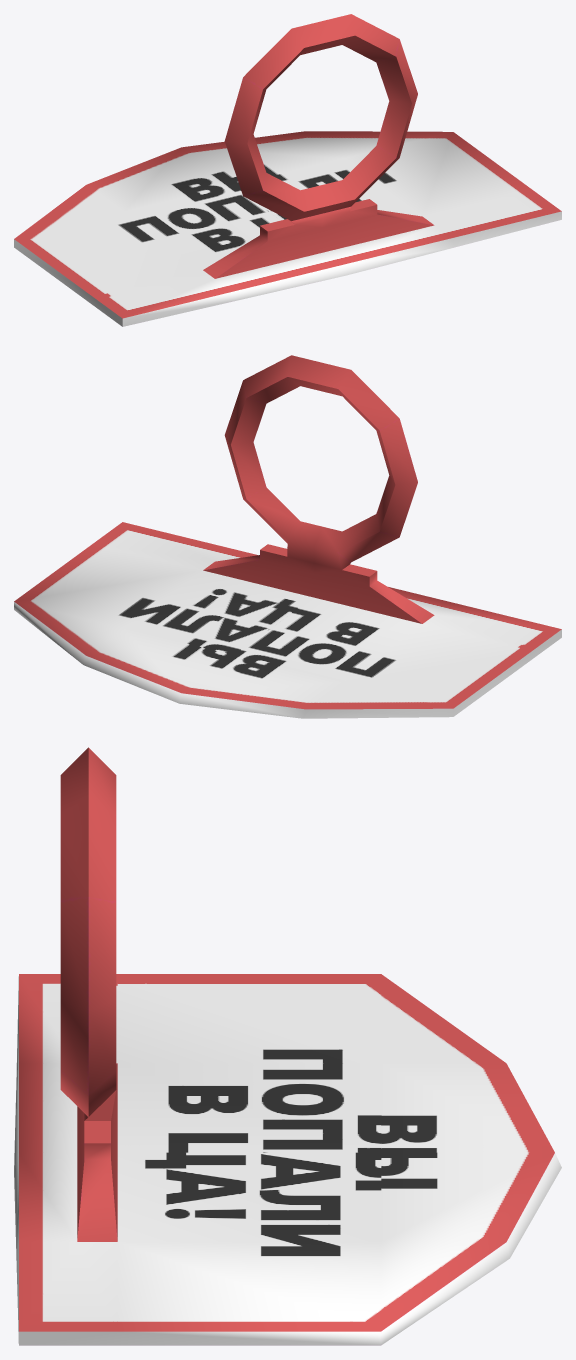
Rendered from basket.fbx.
The picture shows the model from 3 angles, top to bottom: view 1: azimuth 30°, elevation 25°; view 2: azimuth 150°, elevation 25°; view 3: azimuth 270°, elevation 25°; orthographic projection. The views are drawn at different scales.
Parts seen in each view (by area): view 1: Torus_1; view 2: Torus_1; view 3: Torus_1.
Part boxes in pixels (x1,y1,x2,y2): Torus_1: (14,14,561,326); Torus_1: (14,355,561,718); Torus_1: (14,747,561,1345).
Size of the model in its own units: 304 by 158 by 197.
1 material, 1 textured.
